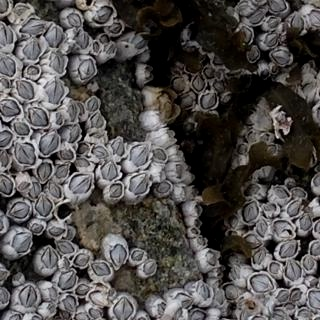Barnacle: (44, 78, 65, 104), (157, 95, 175, 125), (249, 274, 276, 294), (15, 141, 36, 166), (40, 133, 61, 156), (128, 145, 149, 168), (20, 283, 39, 308), (70, 175, 92, 195), (8, 200, 30, 220), (20, 40, 40, 61), (129, 174, 149, 195), (12, 233, 32, 254), (114, 298, 134, 319), (45, 25, 64, 47), (0, 99, 22, 118), (272, 219, 294, 238), (101, 160, 119, 183), (41, 247, 59, 270), (0, 53, 16, 78), (93, 6, 114, 25), (79, 59, 97, 81), (284, 260, 302, 282), (29, 108, 49, 127), (58, 271, 77, 291), (16, 80, 34, 101), (35, 196, 53, 217), (50, 49, 65, 74), (111, 244, 127, 267), (172, 293, 194, 309), (22, 19, 45, 34), (244, 231, 263, 249), (279, 239, 298, 257), (0, 23, 14, 47), (247, 10, 267, 26), (91, 262, 112, 277), (37, 164, 52, 184), (56, 240, 76, 255), (0, 175, 14, 196), (77, 29, 90, 50), (201, 94, 217, 111), (272, 51, 291, 65), (224, 283, 239, 300), (291, 15, 305, 33), (192, 75, 206, 93), (72, 254, 90, 268), (69, 124, 82, 143), (262, 33, 278, 48), (112, 138, 124, 158), (13, 122, 30, 136), (55, 163, 69, 180), (269, 0, 287, 13), (92, 111, 105, 129), (308, 289, 319, 310), (90, 291, 106, 305), (299, 215, 312, 232), (240, 27, 252, 45), (49, 182, 61, 200), (49, 226, 67, 238), (256, 220, 268, 238), (67, 13, 82, 27), (172, 78, 185, 94), (28, 182, 41, 198), (64, 296, 77, 312), (0, 131, 12, 148), (91, 147, 108, 159), (68, 102, 78, 122), (199, 283, 210, 301), (152, 149, 166, 163), (290, 288, 304, 302), (274, 186, 289, 199), (230, 266, 242, 282), (132, 36, 146, 49), (181, 94, 194, 108), (158, 183, 172, 196), (110, 184, 123, 198), (253, 252, 266, 266), (77, 284, 91, 297), (267, 17, 282, 29), (74, 157, 90, 168), (309, 11, 319, 28), (154, 304, 167, 317), (248, 48, 260, 62), (76, 143, 90, 155), (61, 149, 75, 161), (303, 256, 315, 270), (144, 261, 156, 275), (206, 252, 217, 267), (0, 152, 10, 168), (309, 240, 319, 256), (109, 22, 122, 34), (214, 80, 227, 92), (276, 291, 289, 303), (14, 6, 28, 17), (245, 185, 259, 196), (31, 224, 45, 235), (190, 310, 207, 319), (27, 66, 40, 77), (87, 99, 98, 112), (175, 163, 183, 180), (0, 287, 8, 304), (304, 84, 313, 99), (238, 1, 250, 12), (214, 56, 225, 68), (294, 188, 306, 199), (132, 250, 144, 261), (204, 67, 214, 80), (90, 131, 106, 139), (273, 310, 287, 319), (105, 45, 116, 56), (90, 308, 101, 319), (0, 79, 10, 91), (48, 288, 57, 301), (215, 292, 224, 305), (19, 181, 30, 191), (172, 309, 183, 319), (165, 132, 174, 144), (78, 102, 85, 117), (55, 113, 63, 126), (261, 69, 271, 79), (224, 95, 233, 106), (248, 131, 257, 142), (299, 310, 310, 319), (175, 147, 182, 161), (62, 258, 70, 270), (144, 69, 151, 82), (186, 123, 194, 134), (194, 205, 201, 217), (101, 35, 110, 44), (260, 134, 269, 143), (238, 146, 247, 155), (47, 304, 55, 314), (182, 188, 188, 201), (76, 314, 91, 319), (267, 146, 276, 154)
